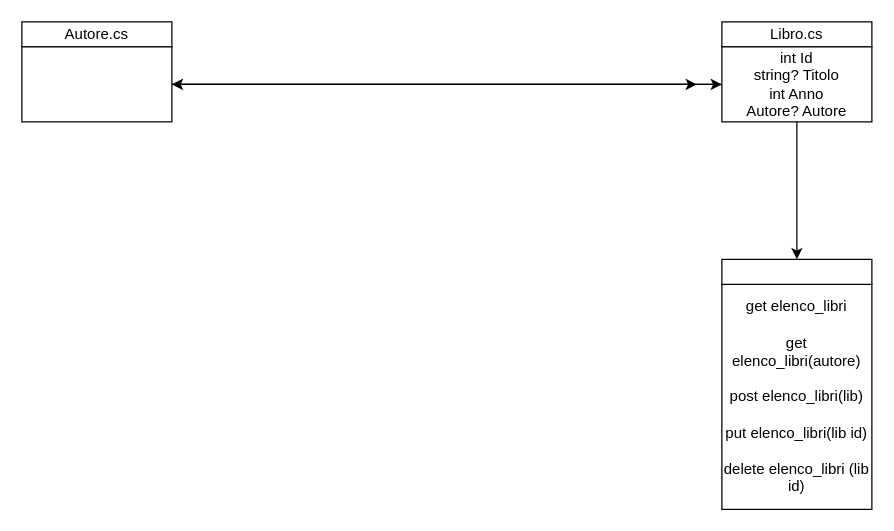
This 894x531 diagram has some shape labels left out. Each missing label, with the centre of its shape:
"program.cs" goes at (796,271).
"string? nome" goes at (96,84).
